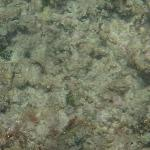dead: (1, 1, 146, 141)
